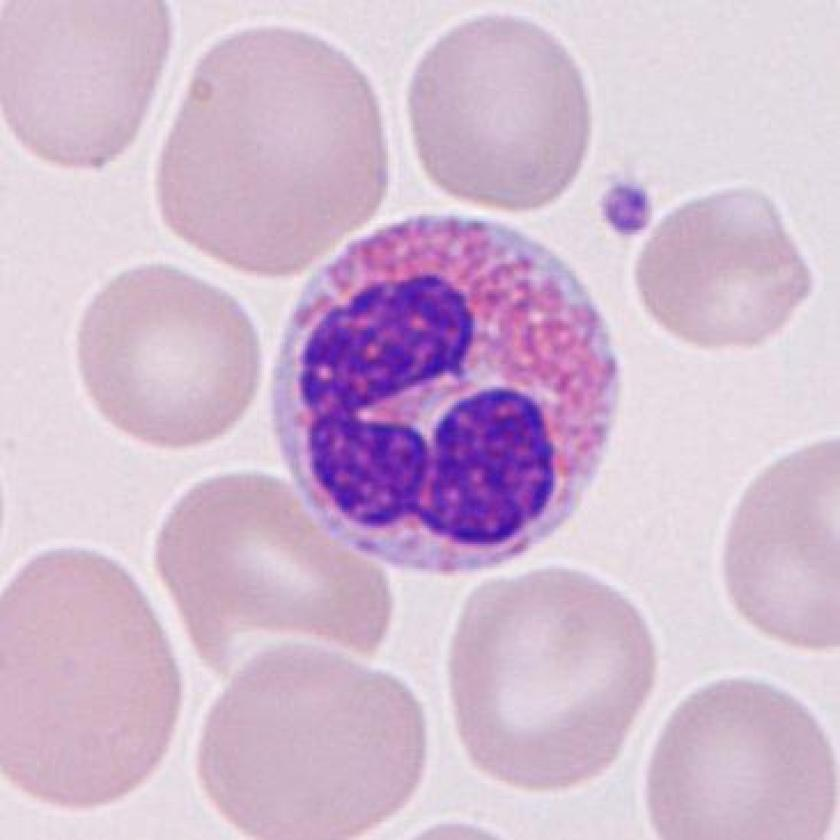eosinophil: (254, 197, 635, 584)
